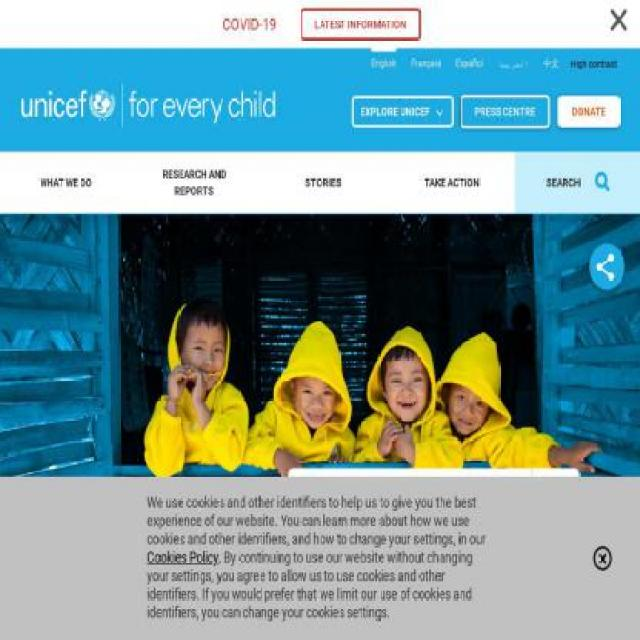button: (29, 567, 462, 639), (20, 73, 277, 138), (479, 567, 612, 639), (515, 152, 639, 214), (299, 8, 421, 40), (352, 95, 454, 128), (459, 95, 550, 128), (598, 0, 639, 51), (557, 95, 620, 128), (589, 242, 625, 290), (568, 50, 620, 72), (498, 48, 528, 69), (412, 48, 441, 69), (455, 48, 483, 69), (372, 48, 396, 69), (544, 48, 559, 69)
